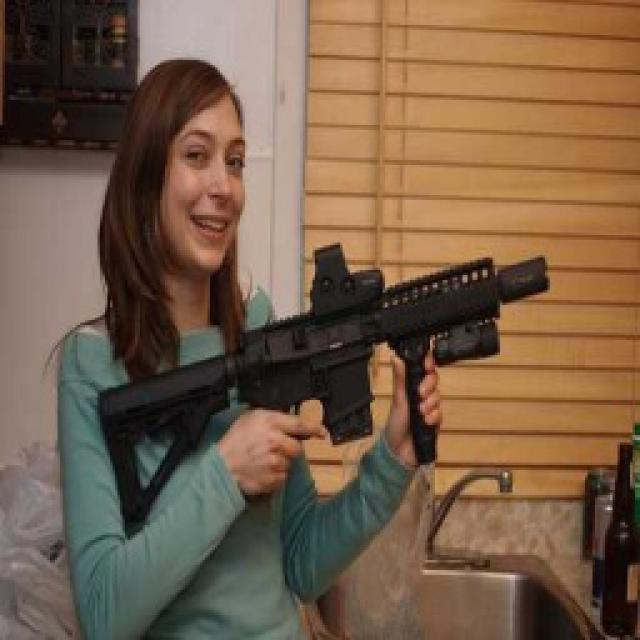long weapon: (0, 255, 574, 482)
